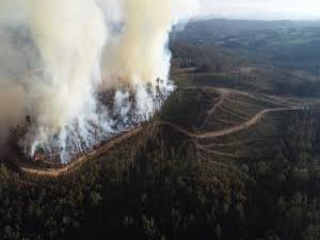smoke: (8, 1, 193, 159)
